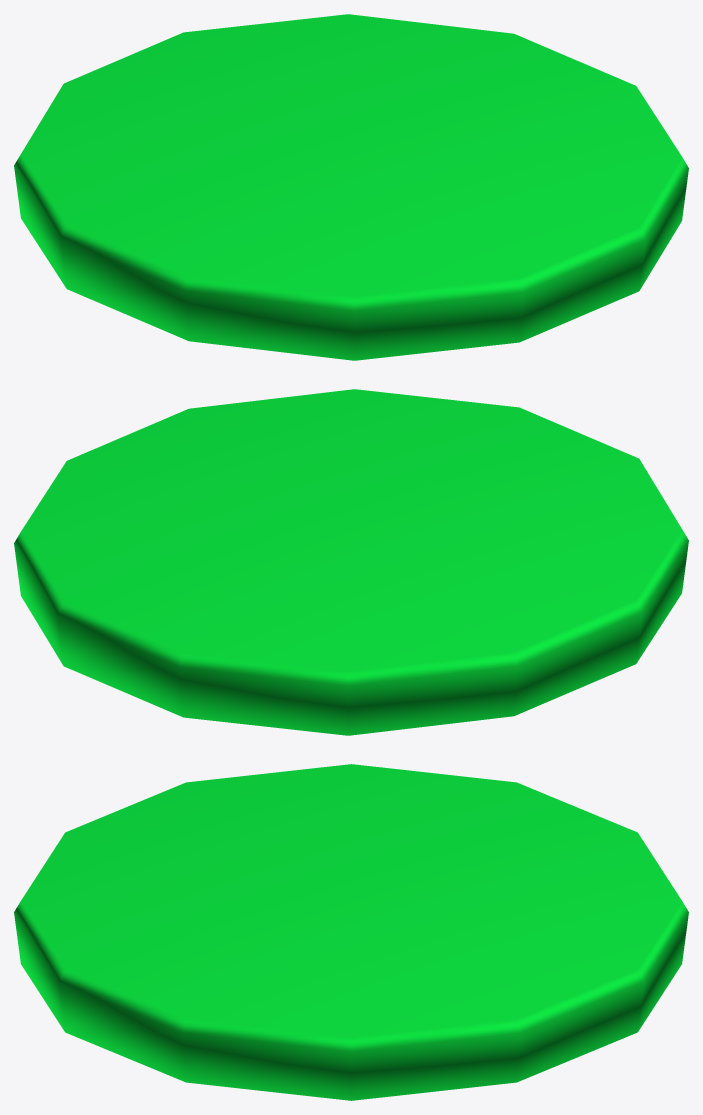
The model's file is Cabinet_Leg_Base_B.fbx.
3 renders of one model, top to bottom at view 1: azimuth 30°, elevation 25°; view 2: azimuth 150°, elevation 25°; view 3: azimuth 270°, elevation 25°, orthographic.
Visible parts, largest first — view 1: Cabinet_Leg_Base_B; view 2: Cabinet_Leg_Base_B; view 3: Cabinet_Leg_Base_B.
Part boxes in pixels (left/top/right/bottom): Cabinet_Leg_Base_B: left=14, top=14, right=688, bottom=360; Cabinet_Leg_Base_B: left=14, top=389, right=688, bottom=735; Cabinet_Leg_Base_B: left=14, top=764, right=688, bottom=1100.
Bounding box in the file's own units: 3.05 × 0.3219 × 3.11.
